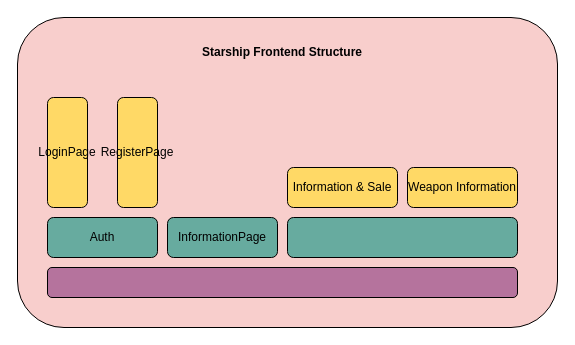
Image size: 575x345. Some labels were removed from this diagram. Each missing label, with the centre of its shape:
"Starship" goes at (x=402, y=237).
"User" goes at (x=282, y=282).
